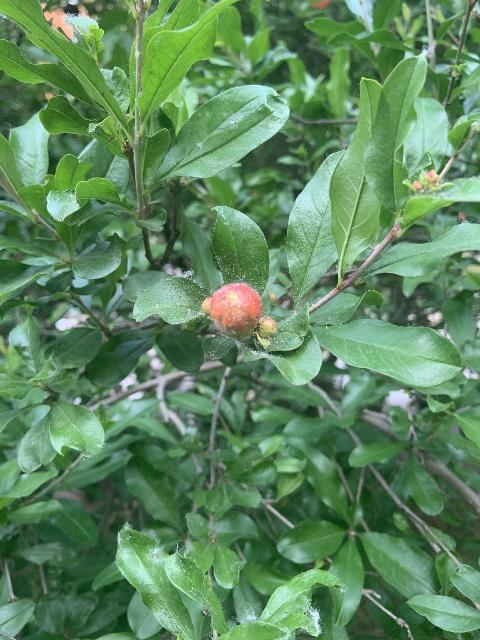bud: (206, 283, 261, 334), (258, 316, 276, 337), (202, 296, 212, 315)
